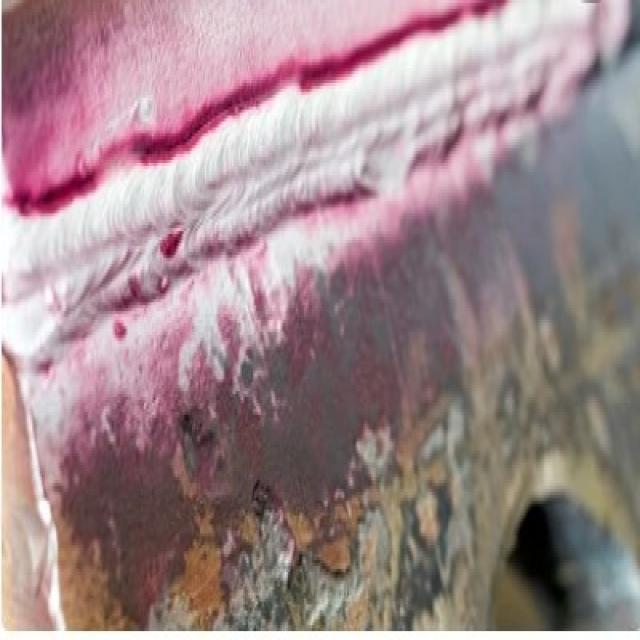Bad Weld: (3, 3, 533, 353)
